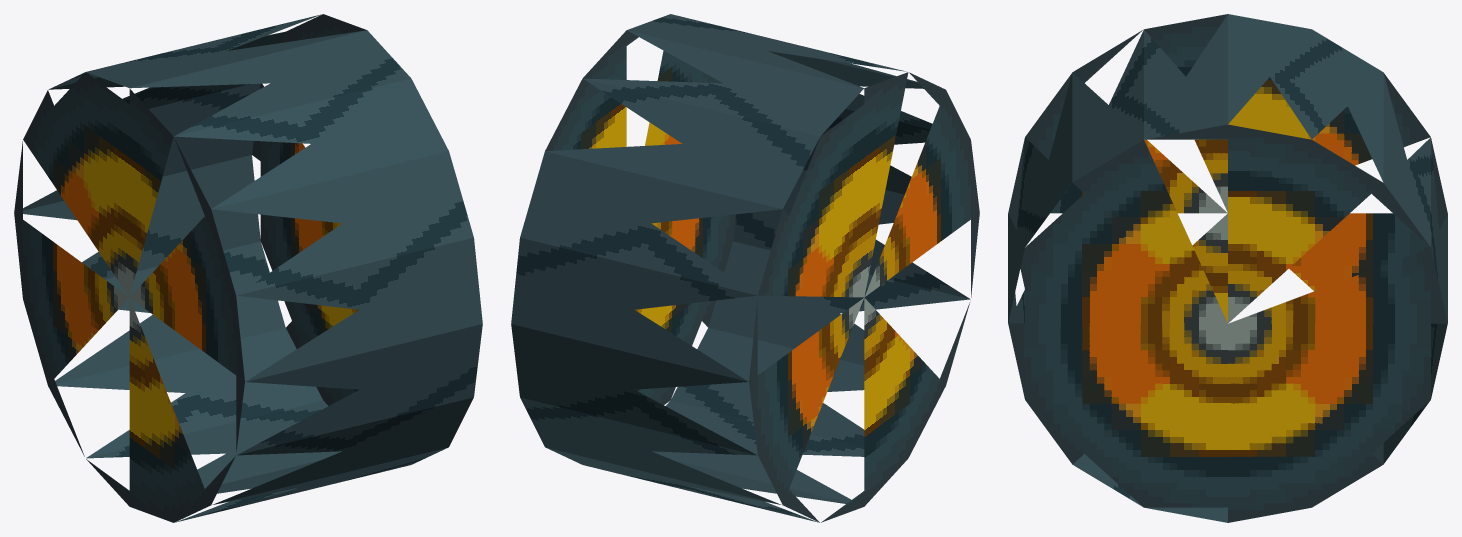
Rendered from kart_tire_M.glb.
3 renders of one model, left to right at view 1: azimuth 30°, elevation 25°; view 2: azimuth 150°, elevation 25°; view 3: azimuth 270°, elevation 25°, orthographic. The views are drawn at different scales.
Visible parts, largest first — view 1: kart_tire_M; view 2: kart_tire_M; view 3: kart_tire_M.
Part boxes in pixels (bbox=[...]): kart_tire_M: bbox=[14, 14, 482, 522]; kart_tire_M: bbox=[511, 14, 979, 522]; kart_tire_M: bbox=[1008, 14, 1447, 522].
Size of the model in its own units: 0.1855 by 0.312 by 0.312.
1 material, 1 textured.
